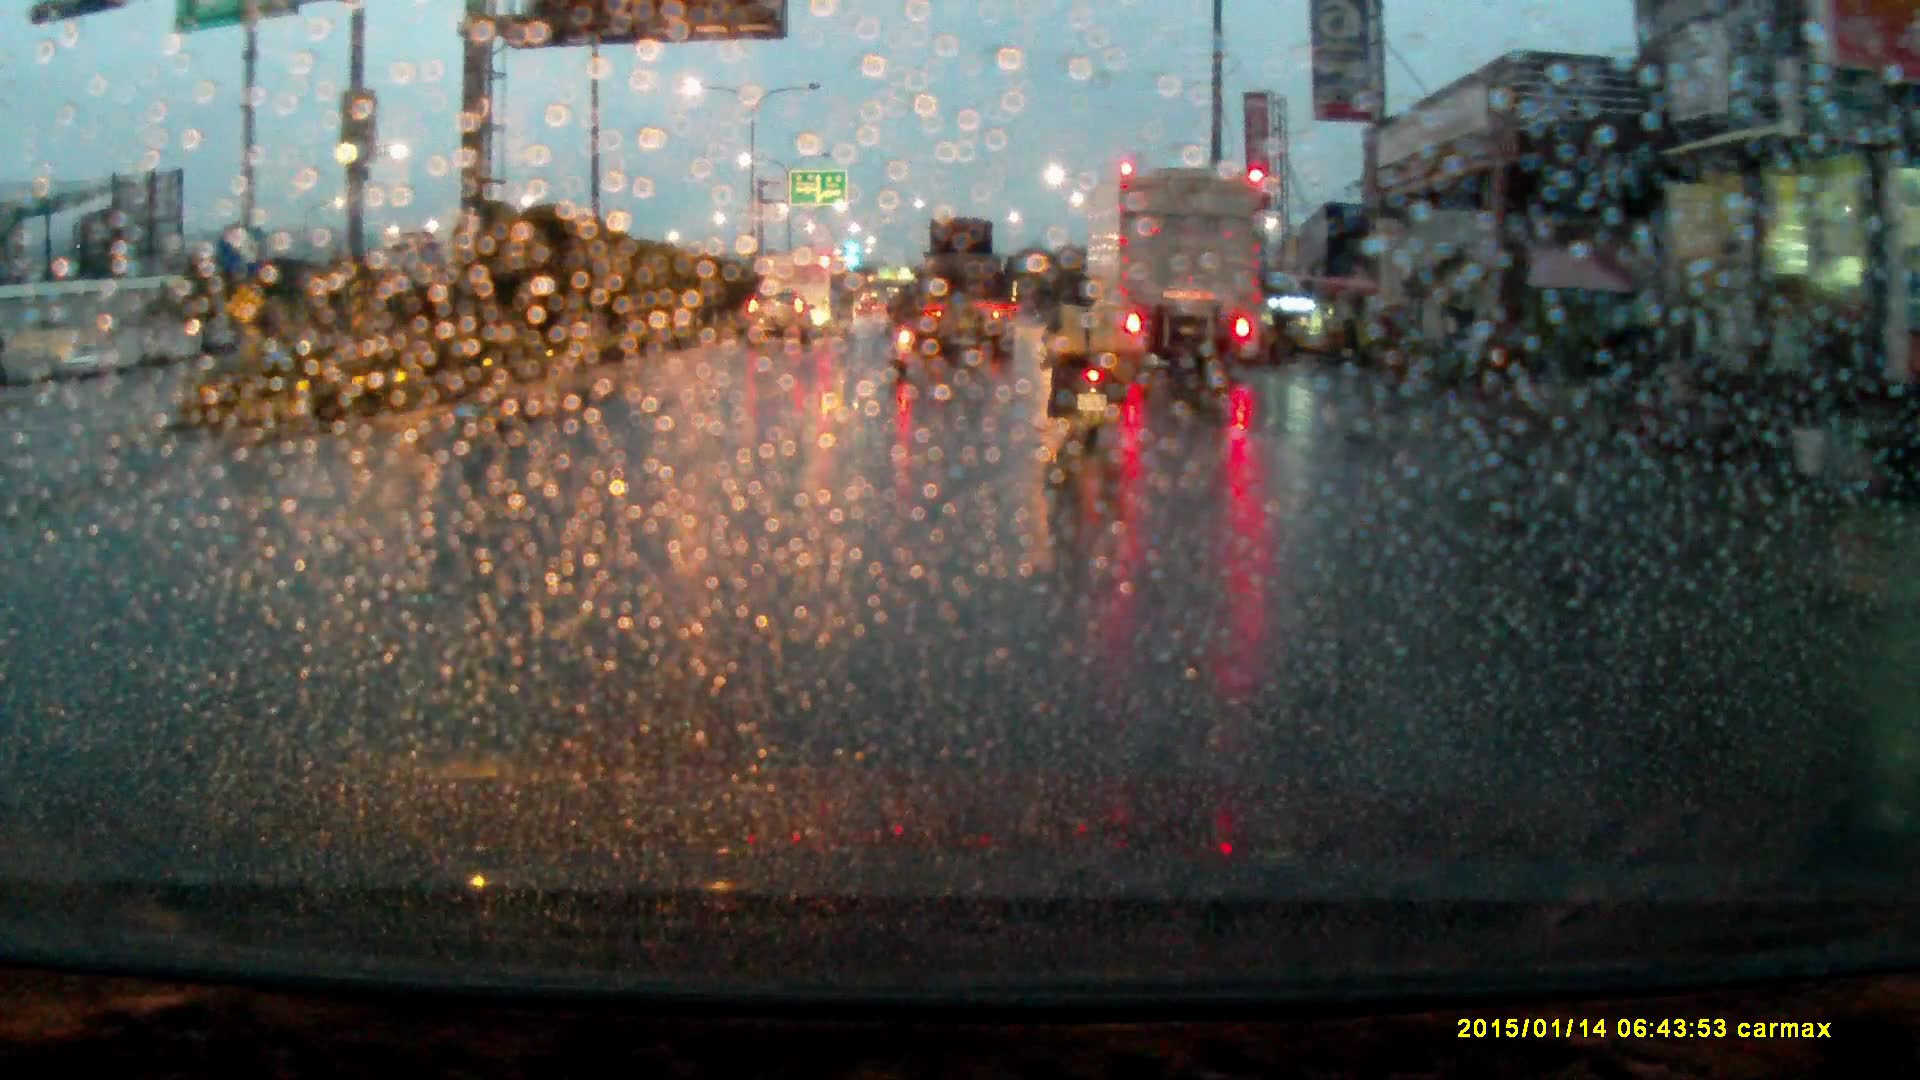rider: (1044, 259, 1128, 444), (890, 268, 928, 364)
vehicle: (1082, 158, 1272, 375), (903, 213, 1006, 362), (774, 244, 848, 327), (746, 285, 818, 351)
